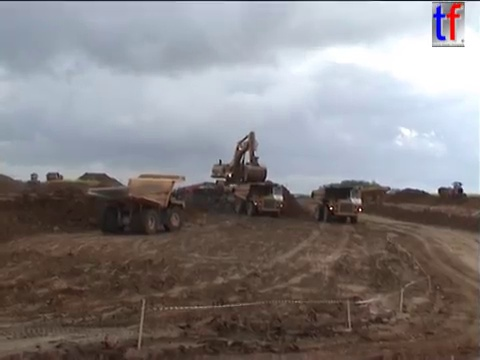excavator: (203, 130, 277, 200)
truck: (86, 172, 186, 234), (228, 180, 285, 218), (310, 184, 363, 224), (338, 183, 392, 207), (171, 179, 221, 203), (45, 171, 62, 186)
wheel loader: (435, 180, 468, 201)
